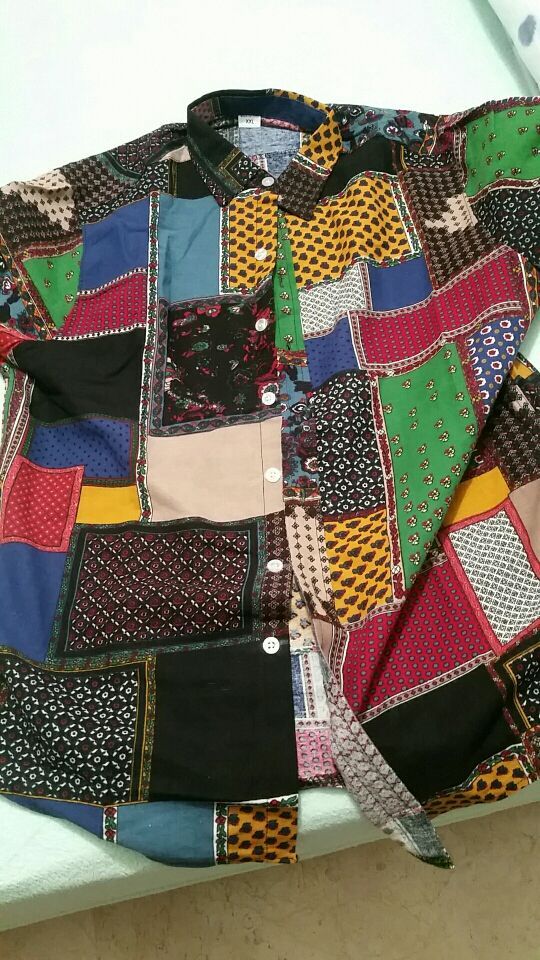shirts: (18, 85, 540, 869)
